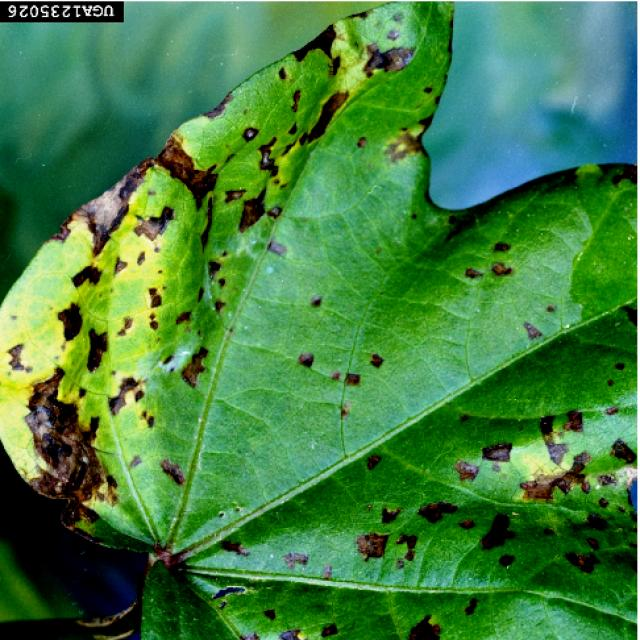Bacterial Blight: (7, 170, 227, 527), (356, 389, 636, 614)
